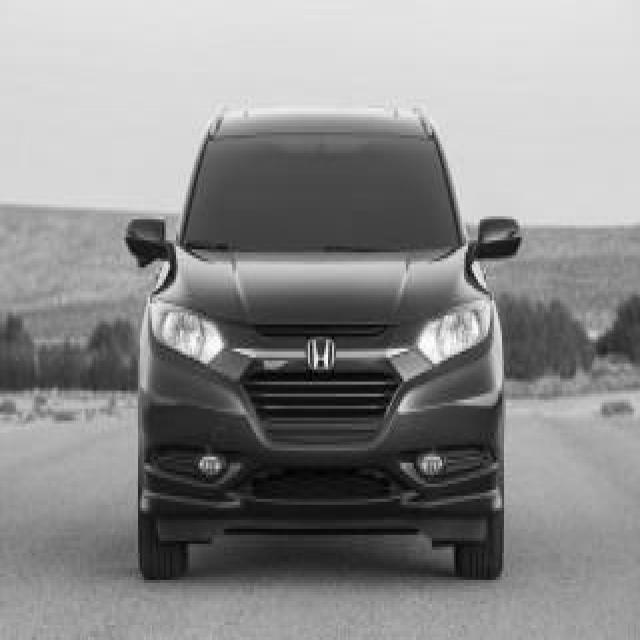Car: (126, 111, 519, 579)
